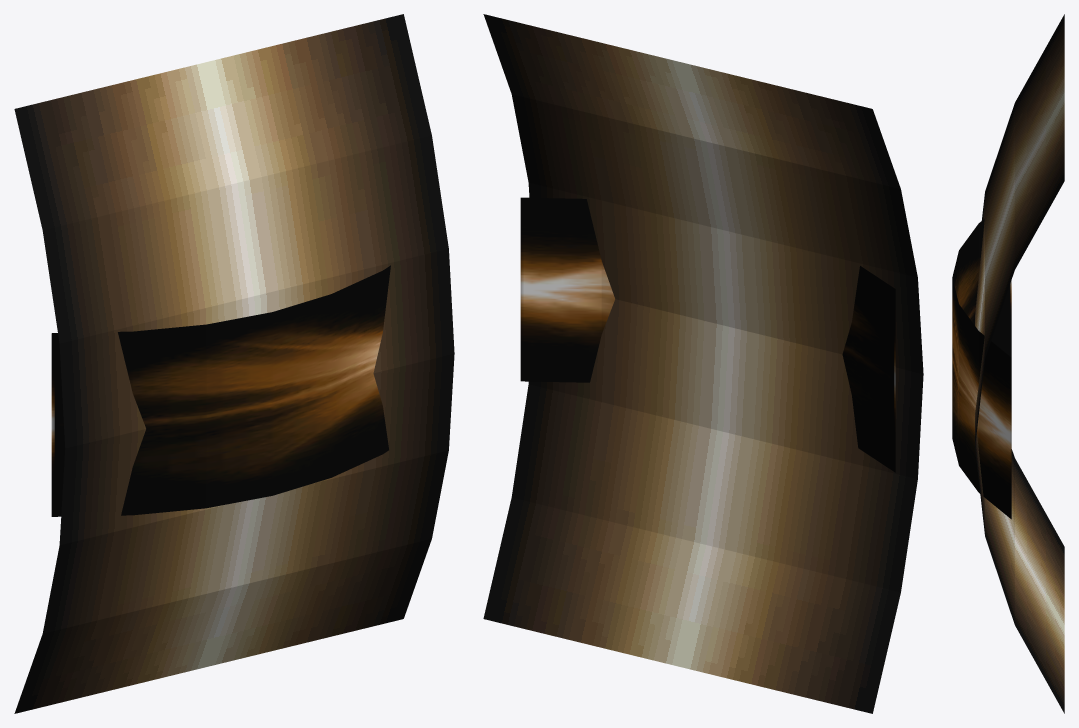
Rendered from tx_bow_liuxingfengbao_fire.obj.
3 views of the same model, side by side, from view 1: azimuth 30°, elevation 25°; view 2: azimuth 150°, elevation 25°; view 3: azimuth 270°, elevation 25° (orthographic). The views are drawn at different scales.
Visible parts, largest first — view 1: jian01, jian02; view 2: jian01, jian02; view 3: jian01, jian02.
Part boxes in pixels (left/top/right/bottom): jian01: left=14, top=14, right=454, bottom=713; jian02: left=51, top=265, right=390, bottom=516; jian01: left=483, top=14, right=923, bottom=713; jian02: left=520, top=197, right=895, bottom=472; jian01: left=975, top=14, right=1064, bottom=713; jian02: left=952, top=218, right=1011, bottom=519.
Size of the model in its own units: 119 by 177 by 33.85.
Materials: 2 (2 with a texture image).
